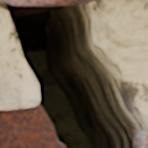brick: (3, 0, 92, 4)
broken_brick: (0, 105, 63, 147), (135, 127, 147, 147)
crack: (0, 0, 145, 147)
